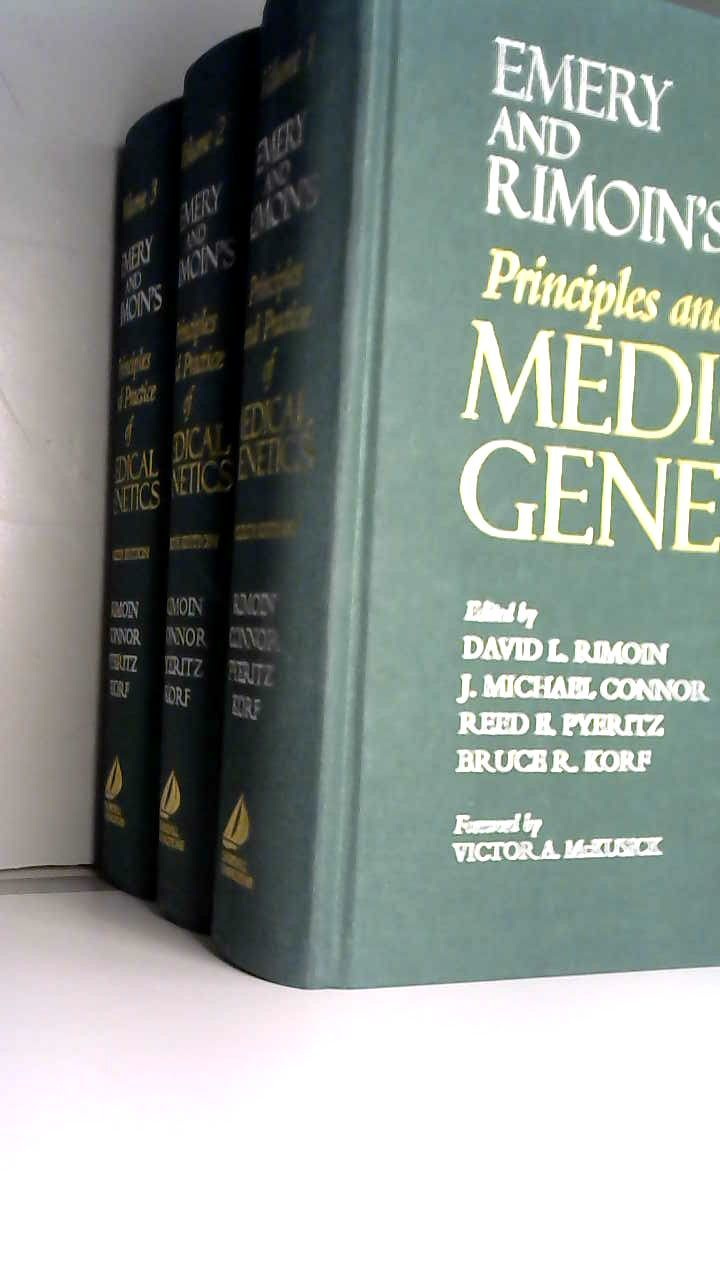book: (82, 0, 720, 1015)
